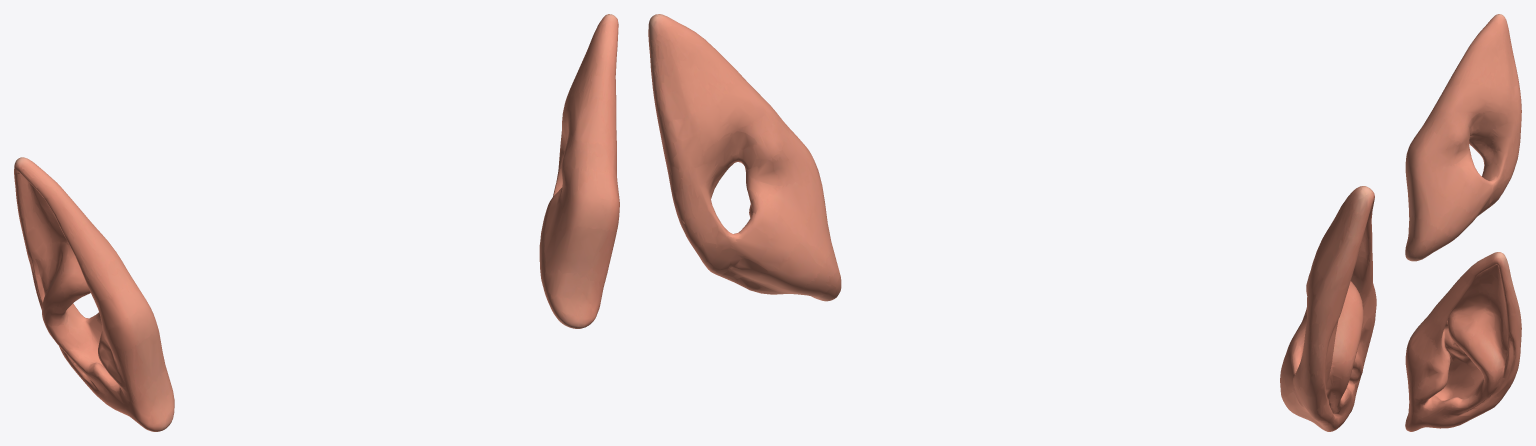
The model's file is elf-ears.glb.
3 renders of one model, left to right at view 1: azimuth 30°, elevation 25°; view 2: azimuth 150°, elevation 25°; view 3: azimuth 270°, elevation 25°, orthographic. The views are drawn at different scales.
Size of the model in its own units: 21.98 by 8.87 by 4.44.
Materials: 1 (1 with a texture image).
